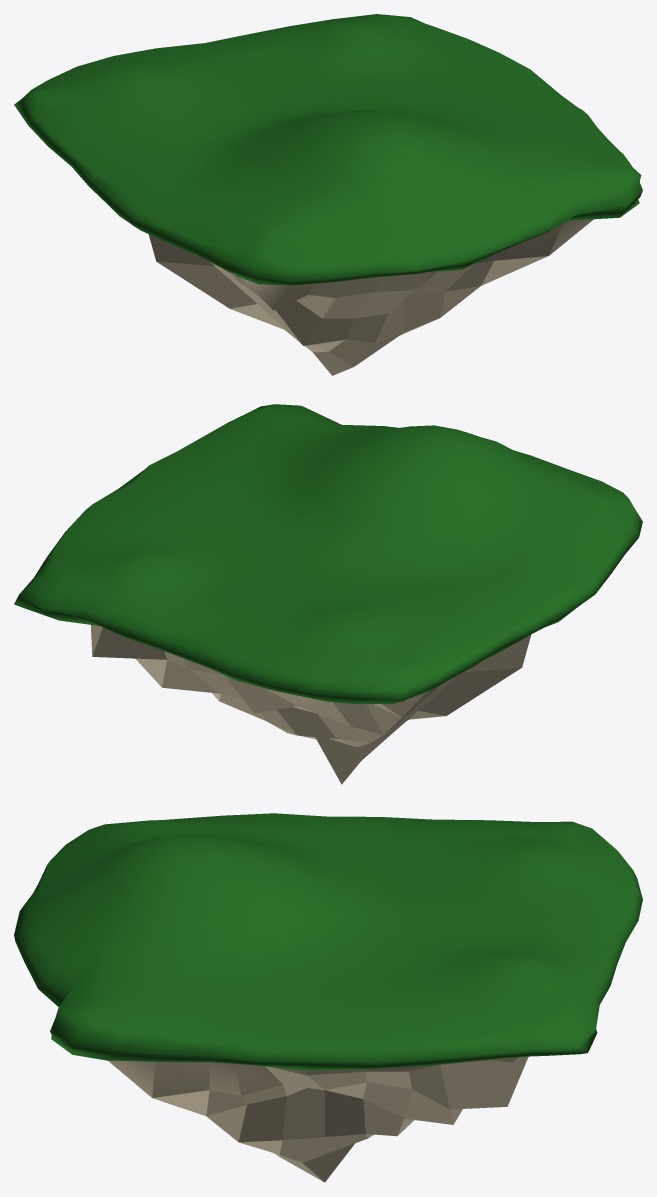
The model's file is SM_Island5.fbx.
The picture shows the model from 3 angles, top to bottom: view 1: azimuth 30°, elevation 25°; view 2: azimuth 150°, elevation 25°; view 3: azimuth 270°, elevation 25°; orthographic projection. The views are drawn at different scales.
Parts seen in each view (by area): view 1: polySurface410, polySurface411; view 2: polySurface410, polySurface411; view 3: polySurface410, polySurface411.
Boxes of the visible parts, x1,y1,x2,y2 form: polySurface410: [14, 14, 642, 285]; polySurface411: [148, 219, 593, 375]; polySurface410: [14, 404, 642, 704]; polySurface411: [90, 625, 530, 784]; polySurface410: [14, 813, 642, 1070]; polySurface411: [108, 1056, 528, 1182].
Size of the model in its own units: 147 by 92.57 by 163.
